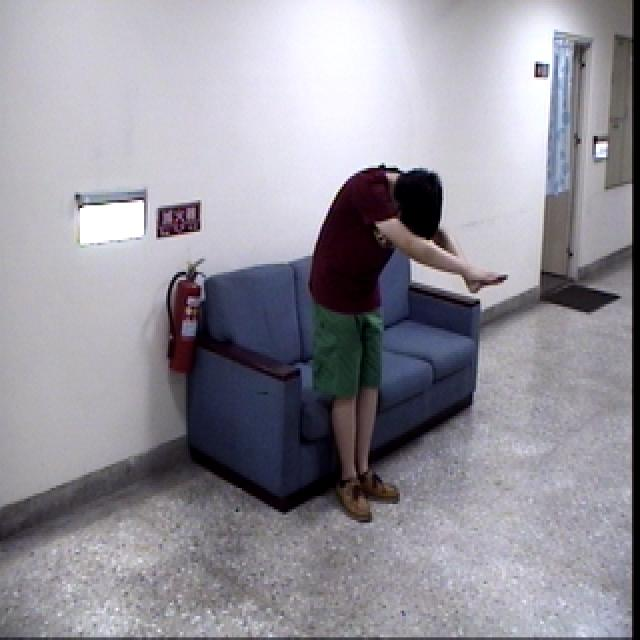bend: (298, 155, 512, 524)
